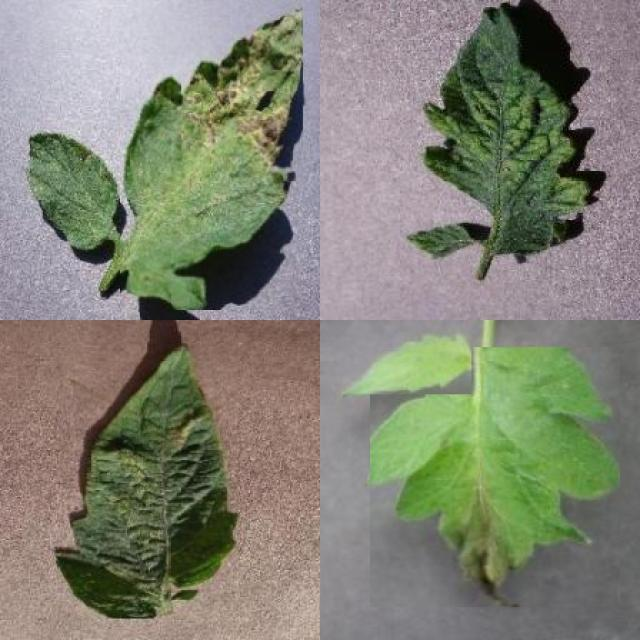Healthy: (338, 332, 472, 394)
Late Blight: (370, 347, 620, 607)
Mosaic Virus: (409, 6, 594, 261)
Septoria: (120, 4, 302, 310)
Spider Mites: (56, 342, 240, 618)
